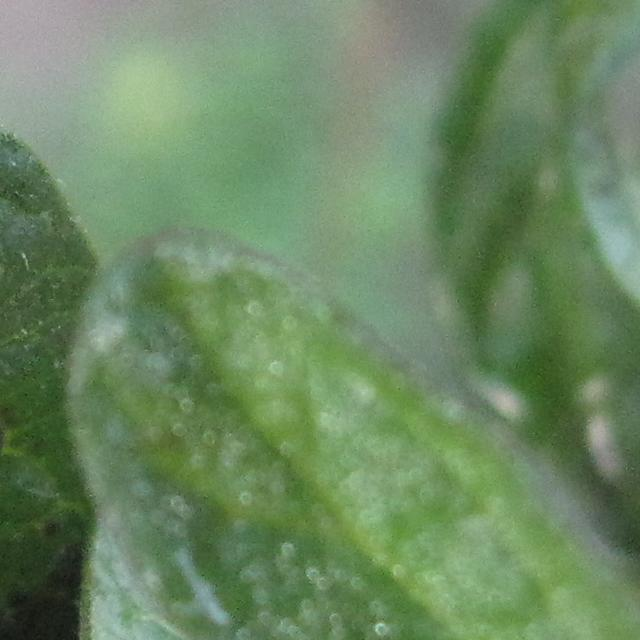Tomato leaf late blight: (0, 0, 393, 640)
